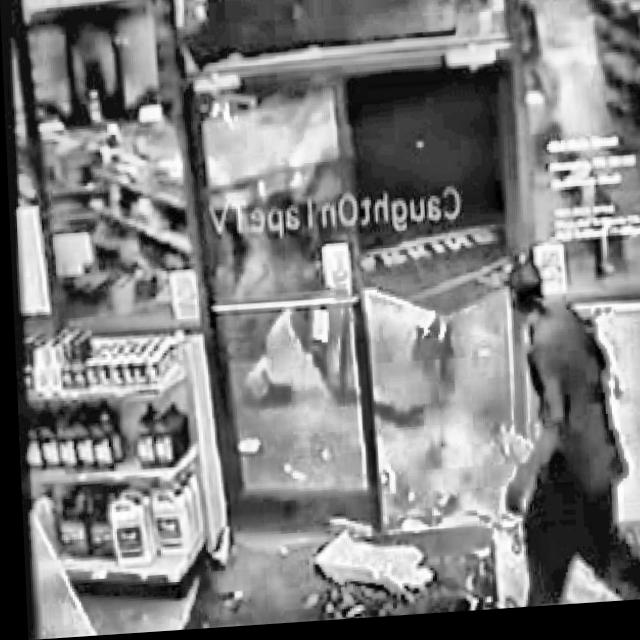burglary: (190, 63, 460, 447), (490, 254, 640, 615)
